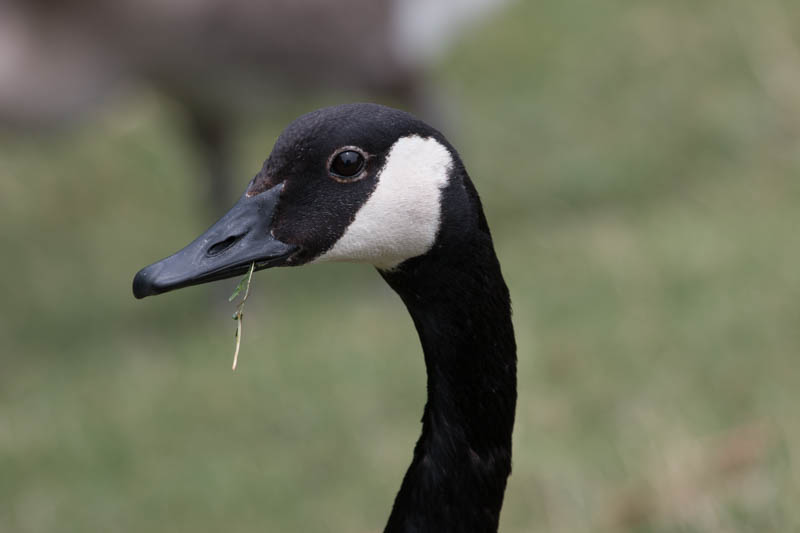goose-head: (133, 102, 487, 301)
